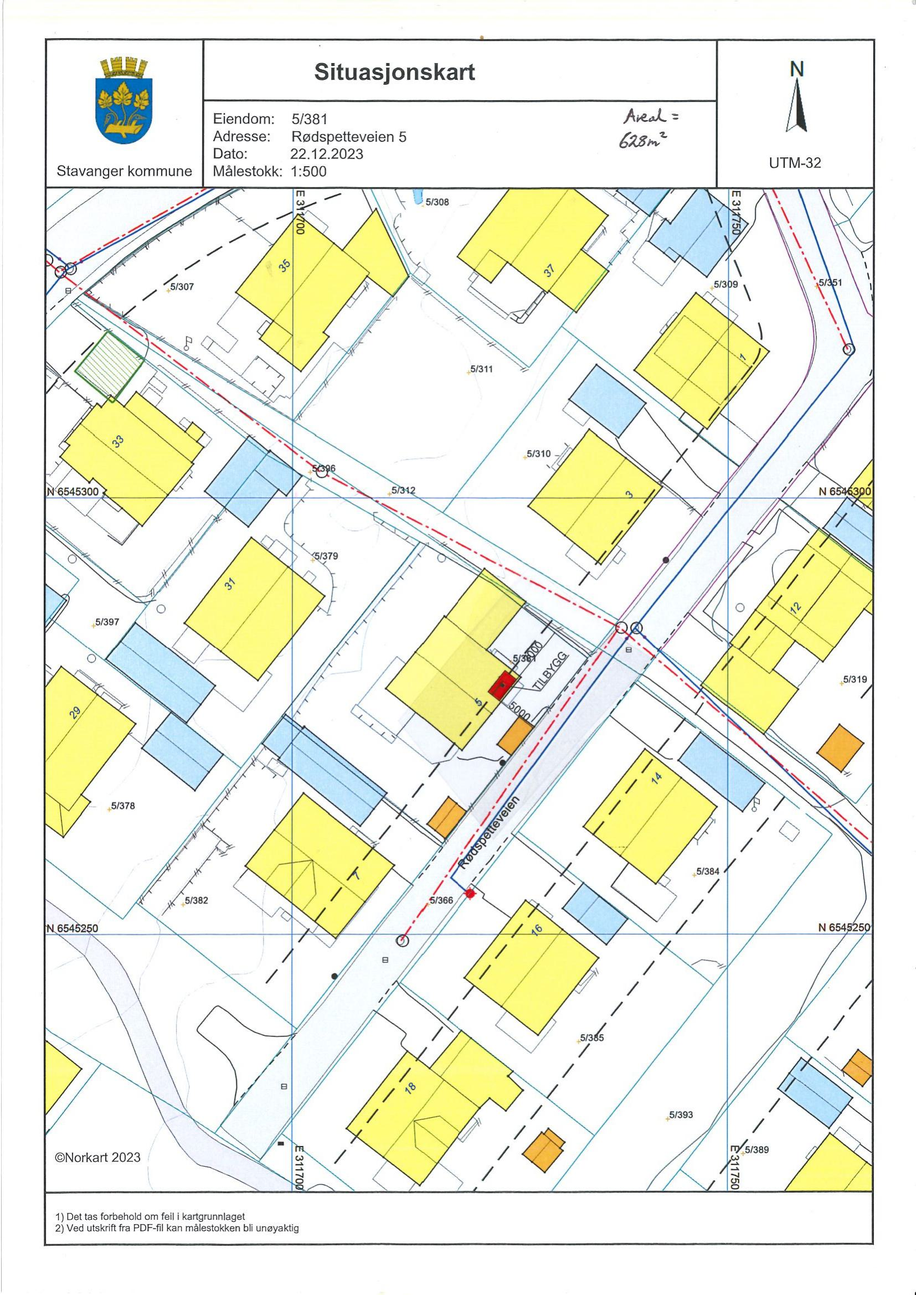situasjonskart: (46, 189, 870, 1190)
